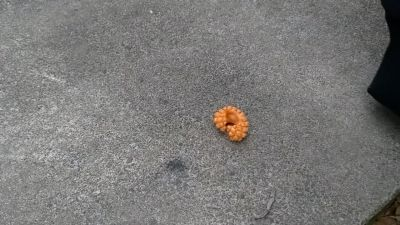eggs: (211, 104, 250, 143)
